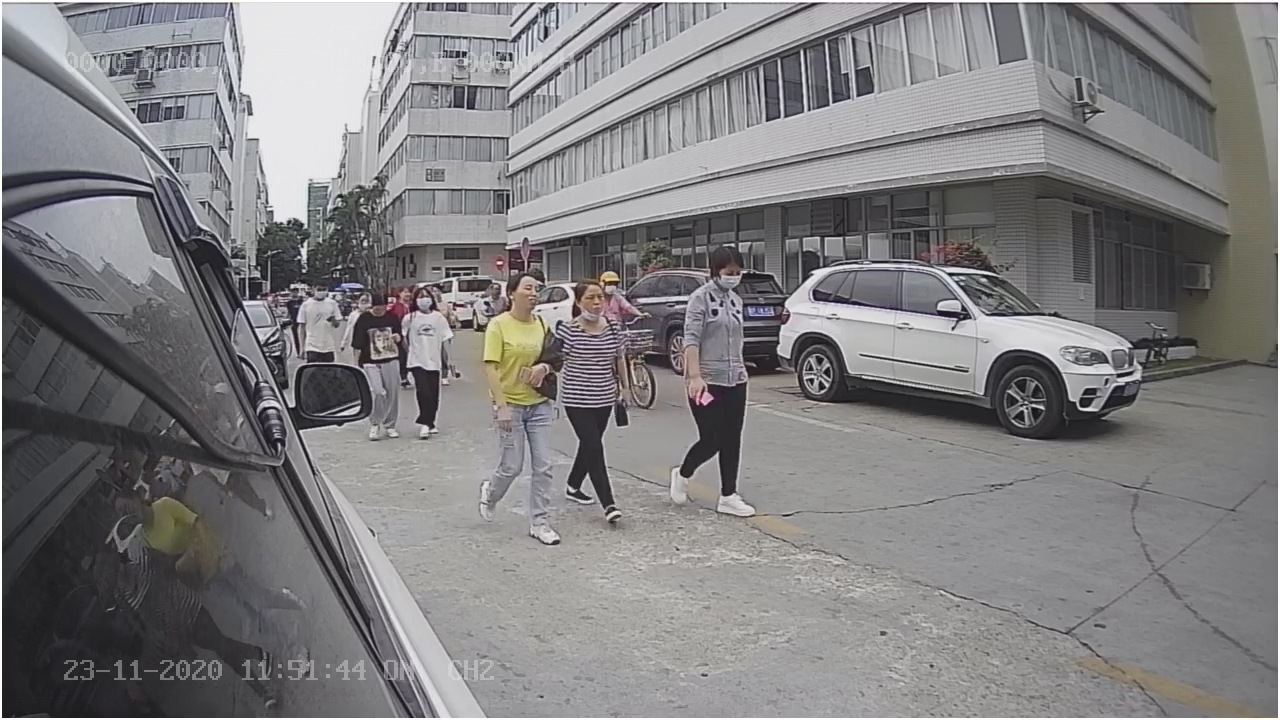person: (669, 245, 764, 523), (470, 265, 561, 546), (398, 280, 458, 440)
